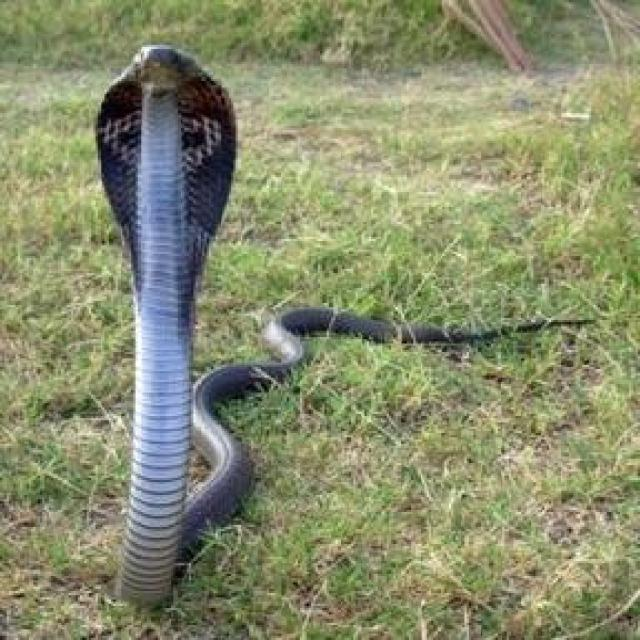Snake: (91, 40, 593, 610)
